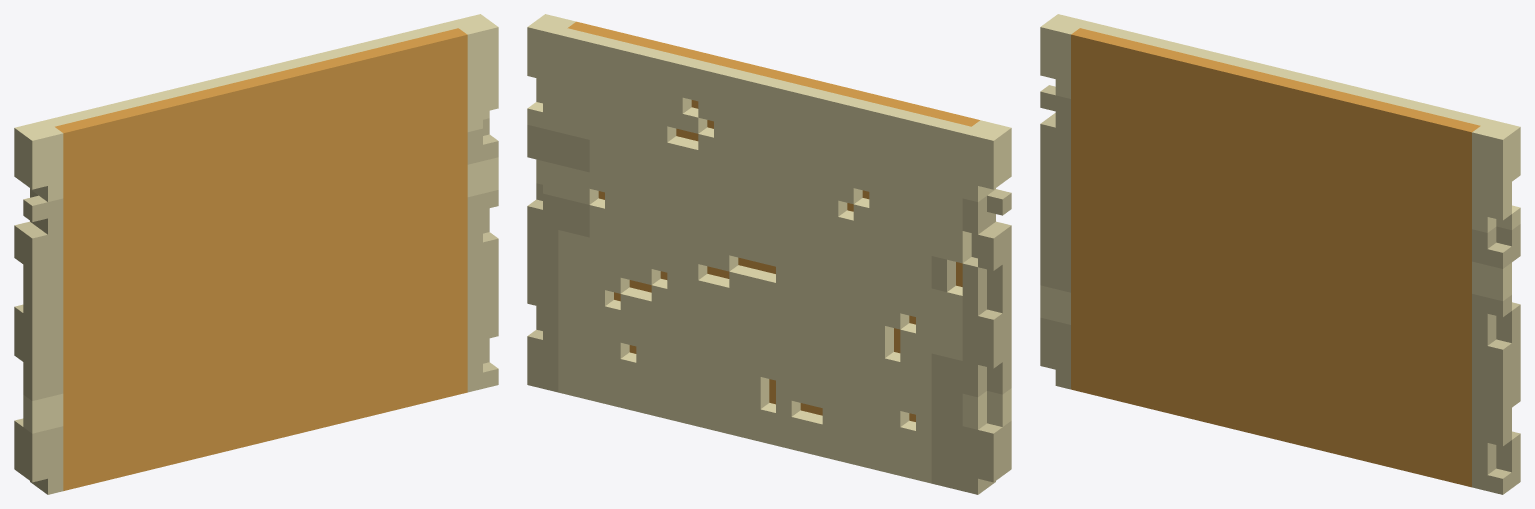
The model's file is Medieval Assets-119-Shop - Desert - Wall variant.obj.
The picture shows the model from 3 angles, left to right: view 1: azimuth 30°, elevation 25°; view 2: azimuth 150°, elevation 25°; view 3: azimuth 330°, elevation 25°; orthographic projection.
Parts seen in each view (by area): view 1: Shop - Desert - Wall variant; view 2: Shop - Desert - Wall variant; view 3: Shop - Desert - Wall variant.
Boxes of the visible parts, x1,y1,x2,y2 form: Shop - Desert - Wall variant: (14,14,498,494); Shop - Desert - Wall variant: (527,14,1011,494); Shop - Desert - Wall variant: (1040,14,1520,494).
Size of the model in its own units: 3 by 2.2 by 0.2.
Materials: 1 (1 with a texture image).
